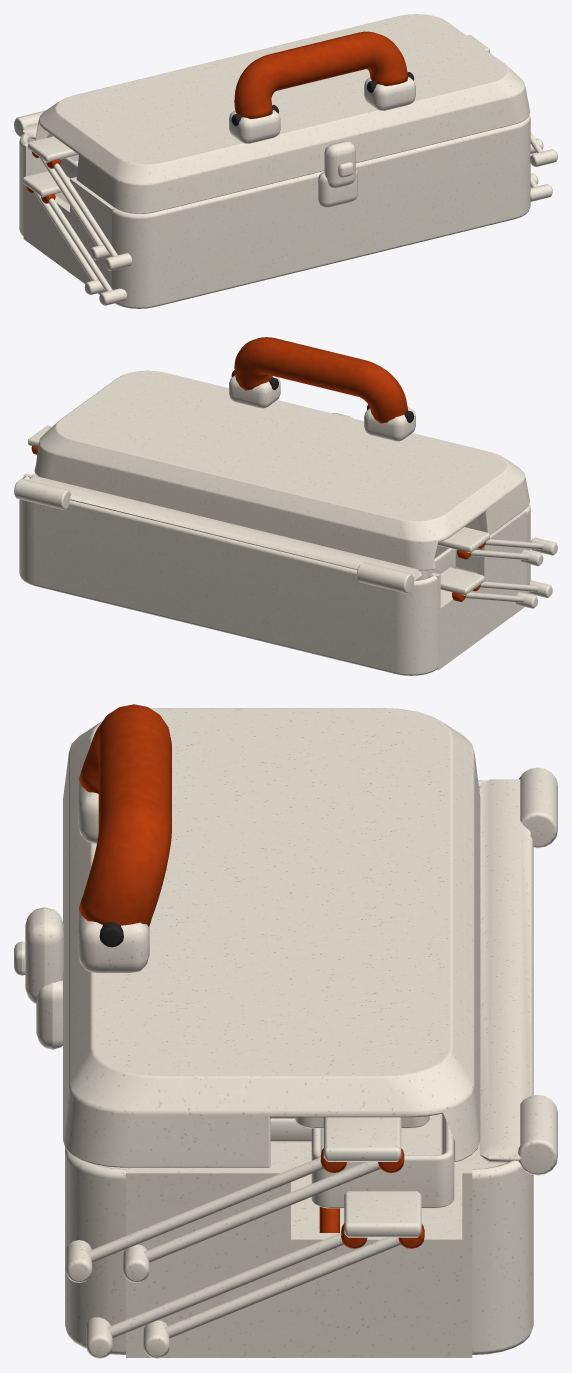
Rendered from toolbox.glb.
3 renders of one model, top to bottom at view 1: azimuth 30°, elevation 25°; view 2: azimuth 150°, elevation 25°; view 3: azimuth 270°, elevation 25°, orthographic. The views are drawn at different scales.
Visible parts, largest first — view 1: geometry_touch_lid_rigid, hero_toolbox_rigid, orange_carrying_bail, geometry_touch_tray_upper_rigid, geometry_touch_tray_front_rigid, geometry_touch_clasp_rigid, geometry_touch_tray_upper_link_rigid, geometry_touch_tray_front_link_rigid, front_tray_carrier_rigid, upper_tray_carrier_rigid; view 2: geometry_touch_lid_rigid, hero_toolbox_rigid, orange_carrying_bail, front_tray_carrier_rigid, upper_tray_carrier_rigid, geometry_touch_tray_upper_link_rigid, geometry_touch_tray_front_link_rigid, geometry_touch_tray_upper_rigid, geometry_touch_tray_front_rigid; view 3: geometry_touch_lid_rigid, hero_toolbox_rigid, orange_carrying_bail, front_tray_carrier_rigid, geometry_touch_tray_upper_rigid, geometry_touch_tray_front_rigid, geometry_touch_tray_front_link_rigid, geometry_touch_tray_upper_link_rigid, upper_tray_carrier_rigid, geometry_touch_clasp_rigid.
Boxes of the visible parts, x1=… form: geometry_touch_lid_rigid: x1=35, y1=14, x2=529, y2=213; hero_toolbox_rigid: x1=14, y1=110, x2=530, y2=308; orange_carrying_bail: x1=234, y1=31, x2=407, y2=118; geometry_touch_tray_upper_rigid: x1=46, y1=132, x2=557, y2=270; geometry_touch_tray_front_rigid: x1=41, y1=175, x2=552, y2=305; geometry_touch_clasp_rigid: x1=324, y1=141, x2=355, y2=188; geometry_touch_tray_upper_link_rigid: x1=31, y1=138, x2=543, y2=260; geometry_touch_tray_front_link_rigid: x1=26, y1=173, x2=538, y2=294; front_tray_carrier_rigid: x1=22, y1=155, x2=78, y2=197; upper_tray_carrier_rigid: x1=28, y1=34, x2=489, y2=162; geometry_touch_lid_rigid: x1=34, y1=370, x2=529, y2=570; hero_toolbox_rigid: x1=14, y1=473, x2=530, y2=675; orange_carrying_bail: x1=234, y1=337, x2=407, y2=423; front_tray_carrier_rigid: x1=32, y1=473, x2=484, y2=595; upper_tray_carrier_rigid: x1=28, y1=425, x2=489, y2=553; geometry_touch_tray_upper_link_rigid: x1=31, y1=445, x2=543, y2=566; geometry_touch_tray_front_link_rigid: x1=452, y1=592, x2=538, y2=608; geometry_touch_tray_upper_rigid: x1=478, y1=537, x2=557, y2=555; geometry_touch_tray_front_rigid: x1=472, y1=580, x2=552, y2=597; geometry_touch_lid_rigid: x1=63, y1=708, x2=480, y2=1167; hero_toolbox_rigid: x1=36, y1=767, x2=557, y2=1357; orange_carrying_bail: x1=78, y1=704, x2=171, y2=926; front_tray_carrier_rigid: x1=311, y1=1113, x2=454, y2=1237; geometry_touch_tray_upper_rigid: x1=66, y1=1148, x2=346, y2=1282; geometry_touch_tray_front_rigid: x1=86, y1=1223, x2=367, y2=1358; geometry_touch_tray_front_link_rigid: x1=143, y1=1224, x2=424, y2=1358; geometry_touch_tray_upper_link_rigid: x1=123, y1=1148, x2=404, y2=1282; upper_tray_carrier_rigid: x1=295, y1=1116, x2=429, y2=1161; geometry_touch_clasp_rigid: x1=14, y1=907, x2=63, y2=1003.
Bounding box in the file's own units: 0.498 × 0.219 × 0.267.
3 materials, 2 textured.
